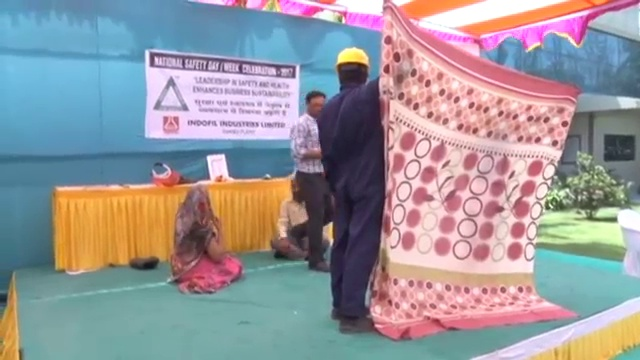helmet: (335, 46, 369, 69)
helmet_off: (180, 183, 213, 209), (305, 90, 325, 118), (289, 173, 302, 201)
helmet_on: (333, 46, 370, 85)
person: (321, 46, 380, 331), (169, 182, 241, 295), (295, 88, 336, 271), (274, 171, 317, 261)
